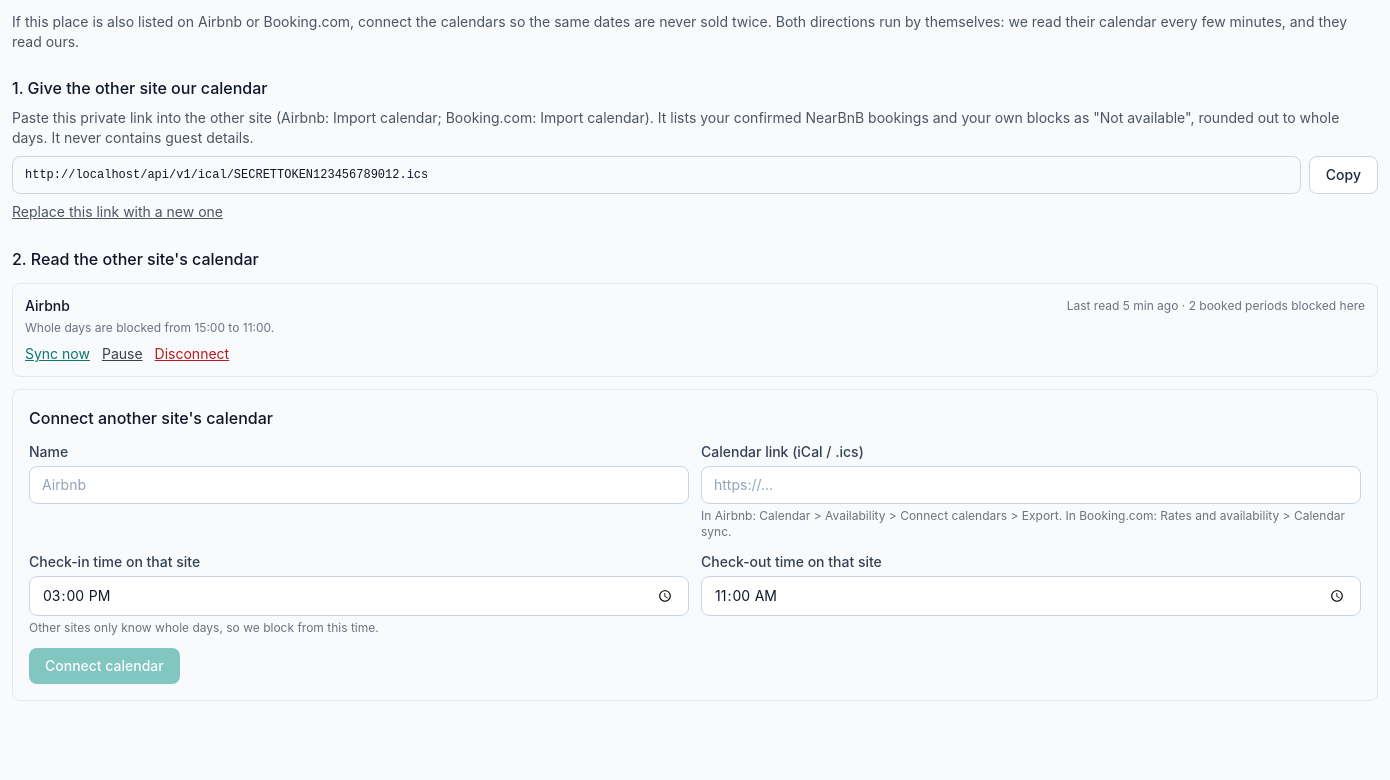
Test: calendar sync for a unit › replaces the link only after the host confirms
Click the button "Replace this link with a new one". click: (118, 212)
box: [12,202,223,222]
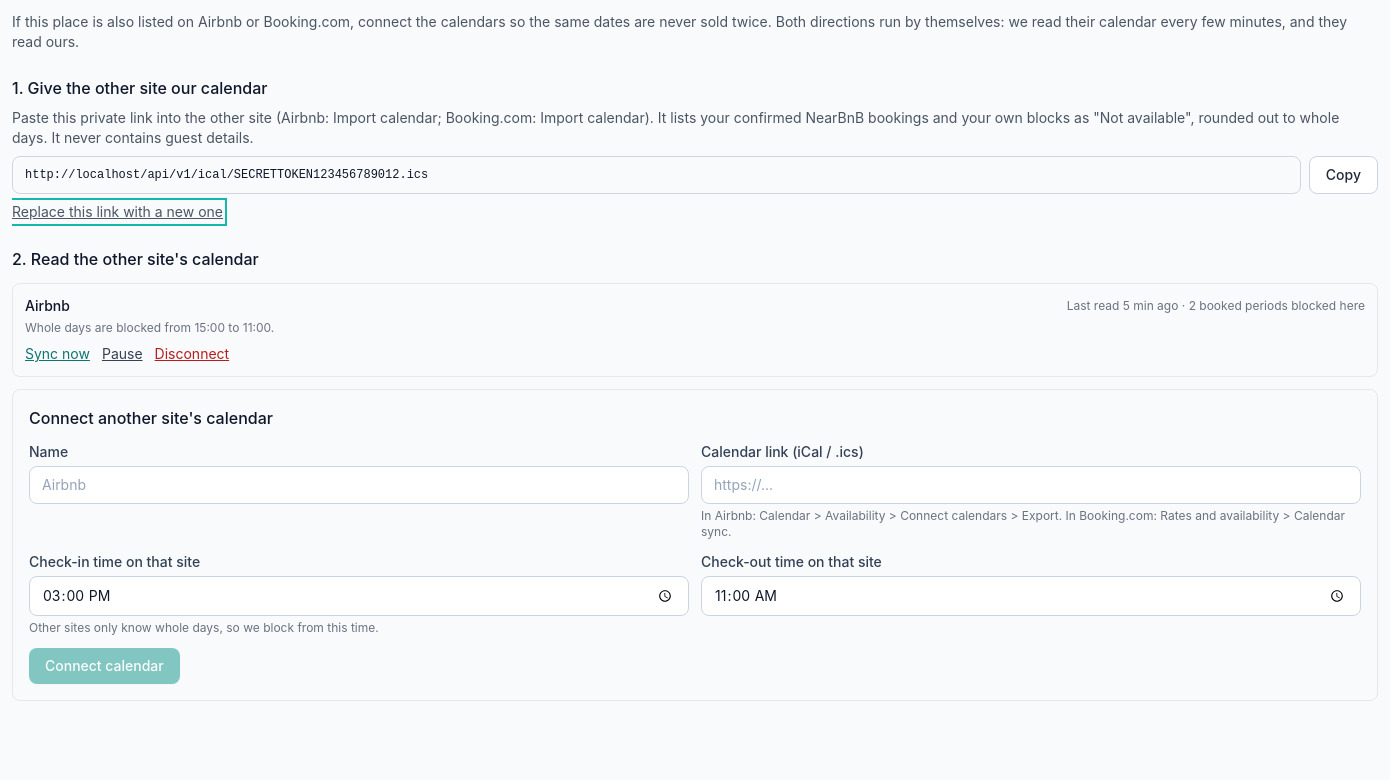
Click the button "Replace this link with a new one". click: (118, 212)
box: [12,202,223,222]
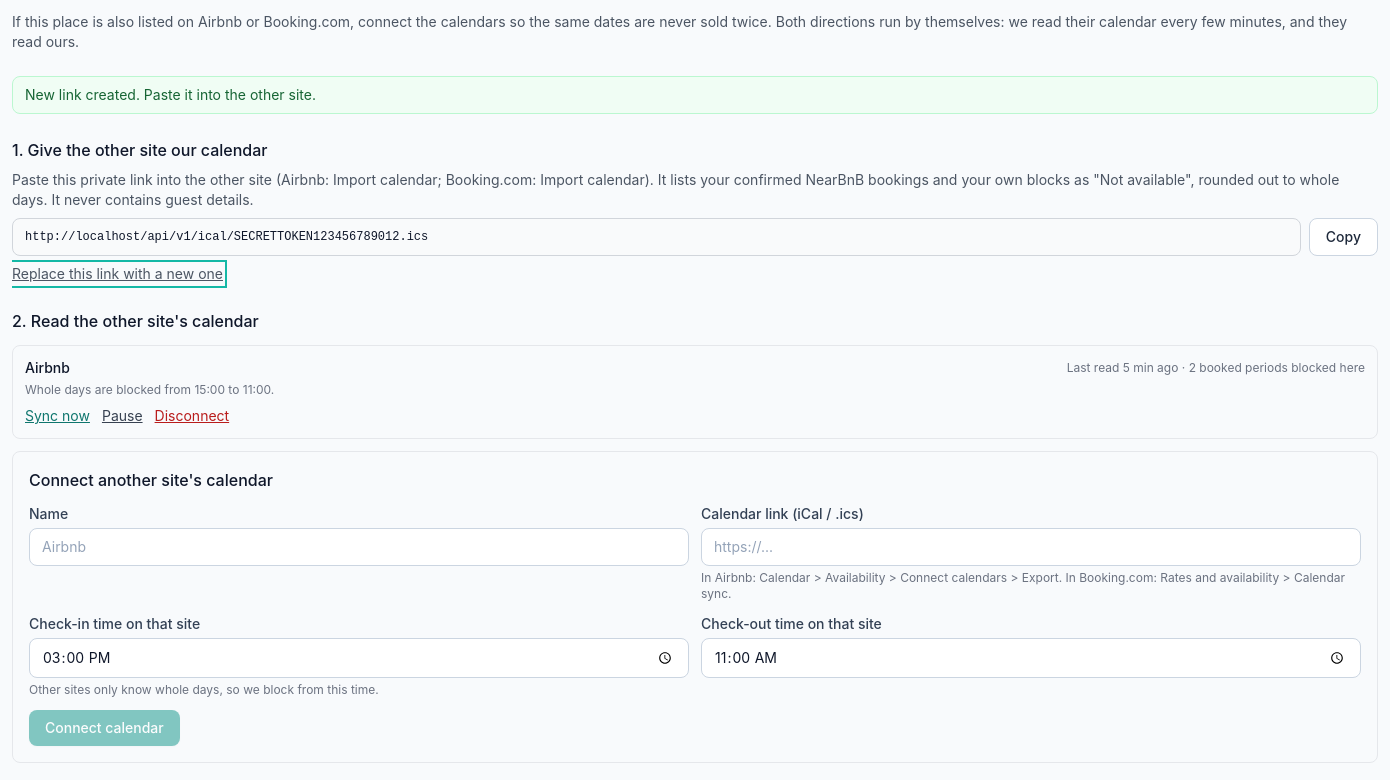
expect the text "New link created. Paste it into the other site." is shown: met, box [12,76,1378,114]
